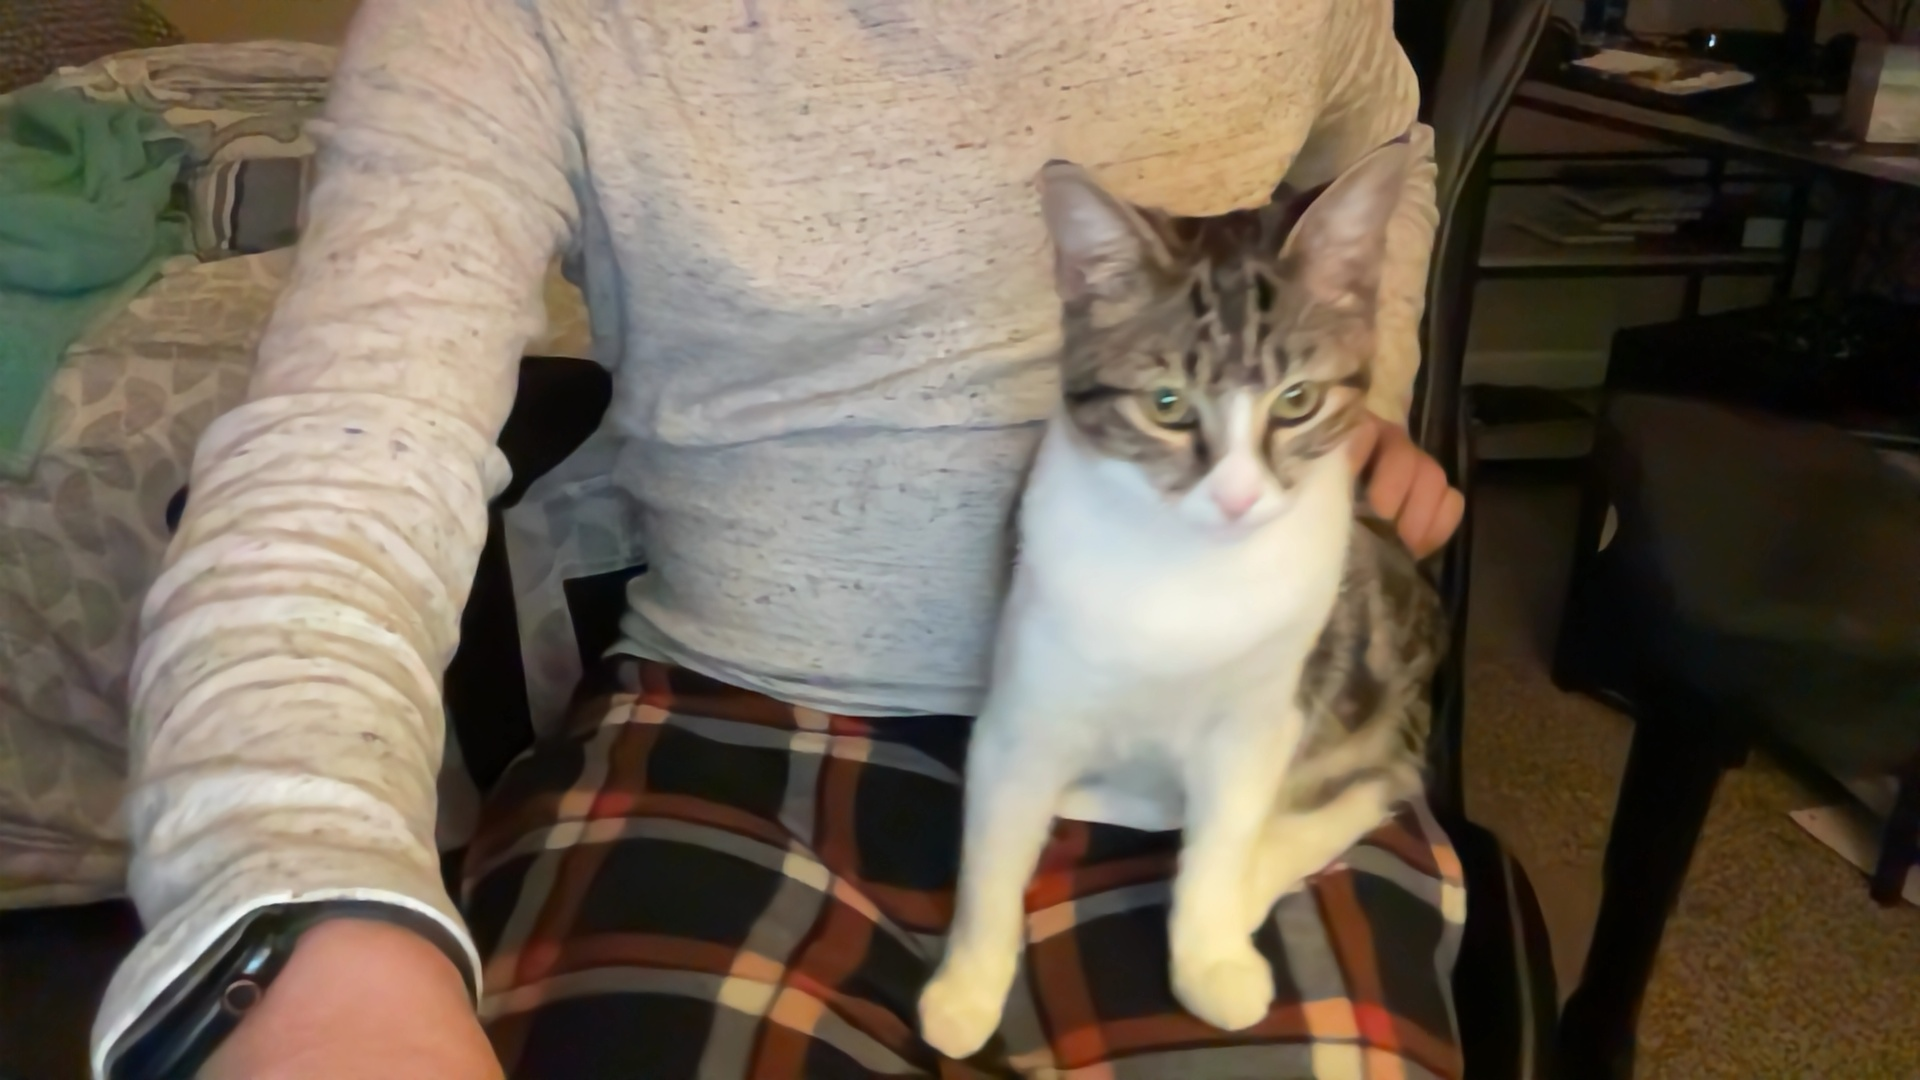cat: (909, 127, 1458, 1059)
